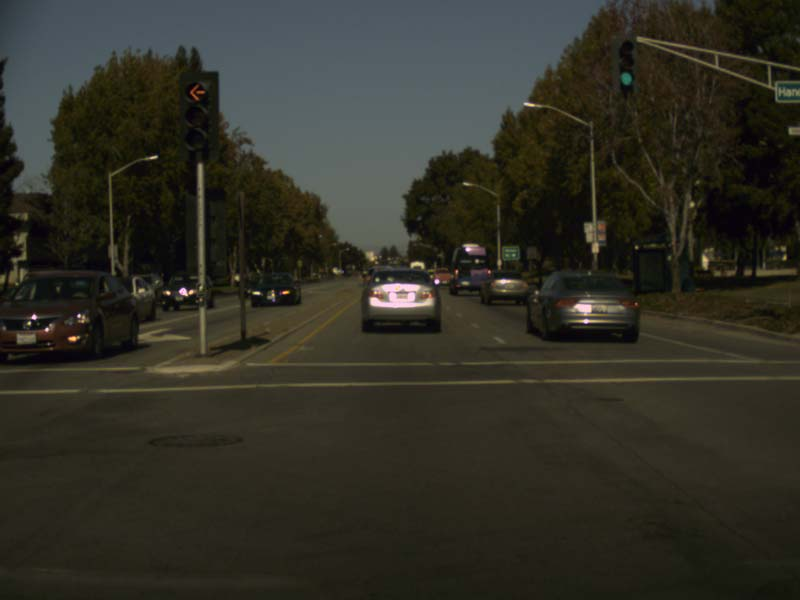Green: (618, 36, 637, 93)
Red: (182, 81, 213, 154)
